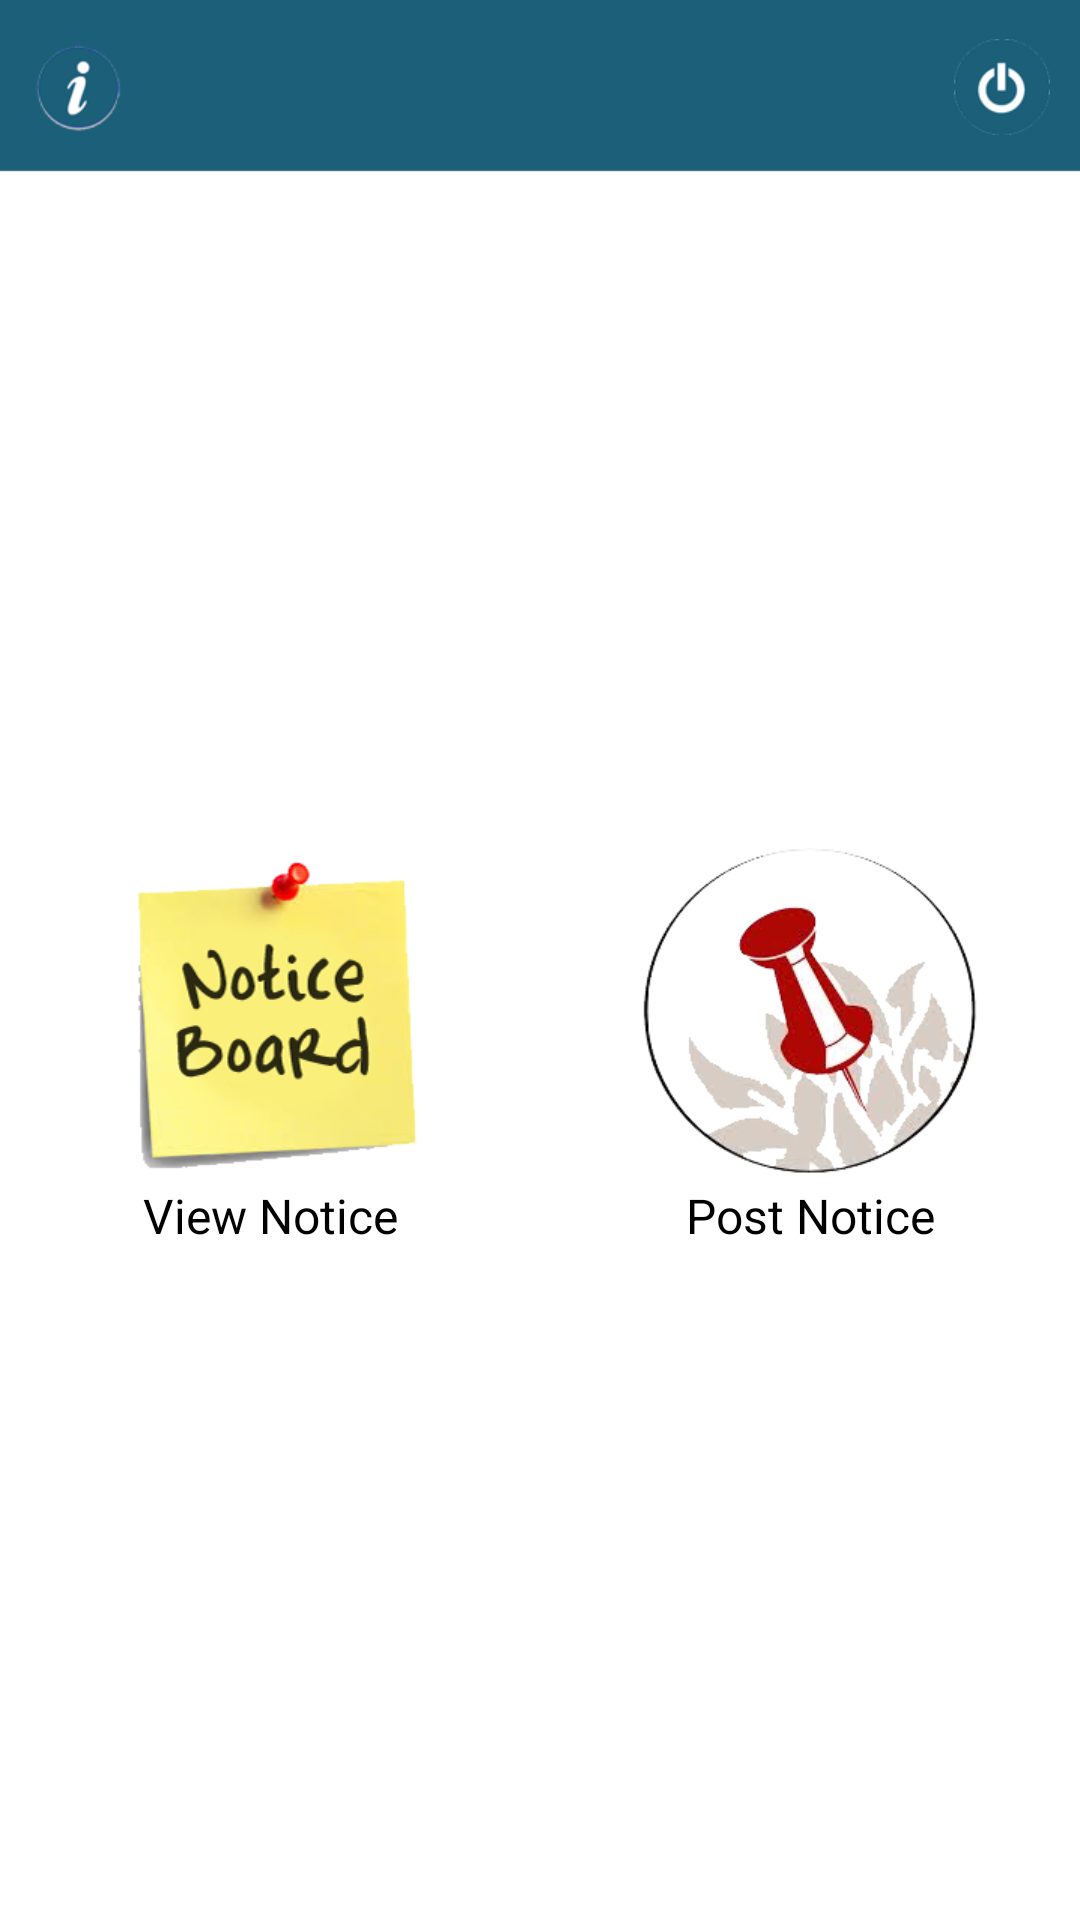

Screen size 1080 x 1920. Icon name, then its center in pixels as (x,y):
about us: (78,88)
